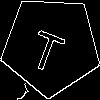T: (26, 20, 70, 75)
